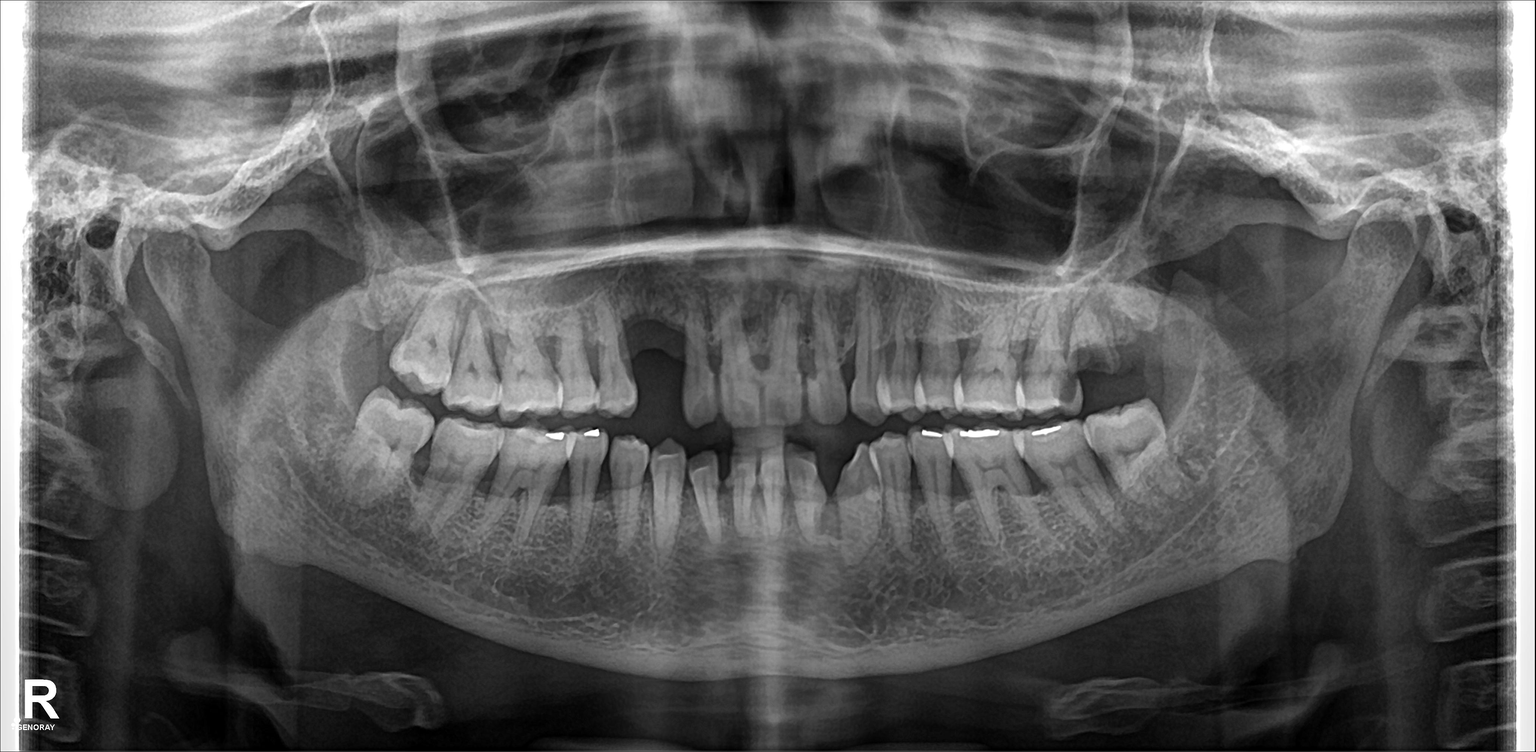Dental Caries: (1078, 344, 1108, 371), (1058, 365, 1077, 402)
Missing Tooth: (638, 303, 688, 395), (1115, 300, 1156, 384), (358, 292, 396, 368)
Retained Root: (1076, 307, 1110, 387)
